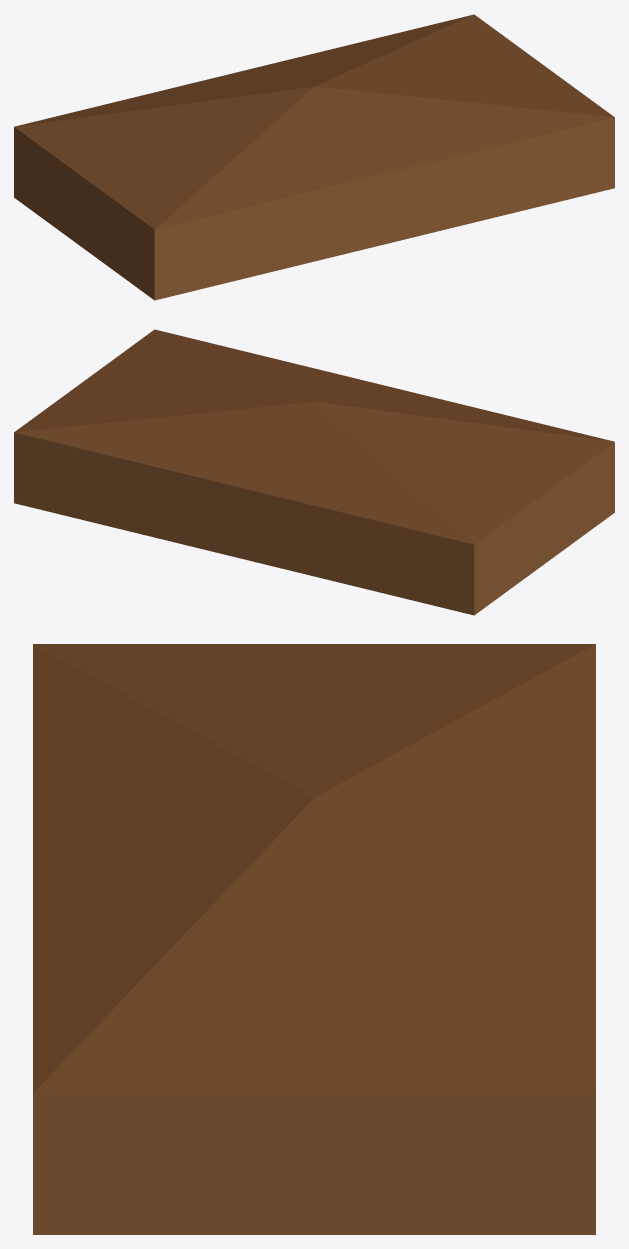
Rendered from drop_leather_body.glb.
3 renders of one model, top to bottom at view 1: azimuth 30°, elevation 25°; view 2: azimuth 150°, elevation 25°; view 3: azimuth 270°, elevation 25°, orthographic. The views are drawn at different scales.
Visible parts, largest first — view 1: drop_leather_body; view 2: drop_leather_body; view 3: drop_leather_body.
Part boxes in pixels (box(x1,y1,x2,y2)): drop_leather_body: box(14, 14, 614, 300); drop_leather_body: box(14, 329, 614, 615); drop_leather_body: box(33, 644, 595, 1234).
Size of the model in its own units: 0.34 by 0.075 by 0.18.
